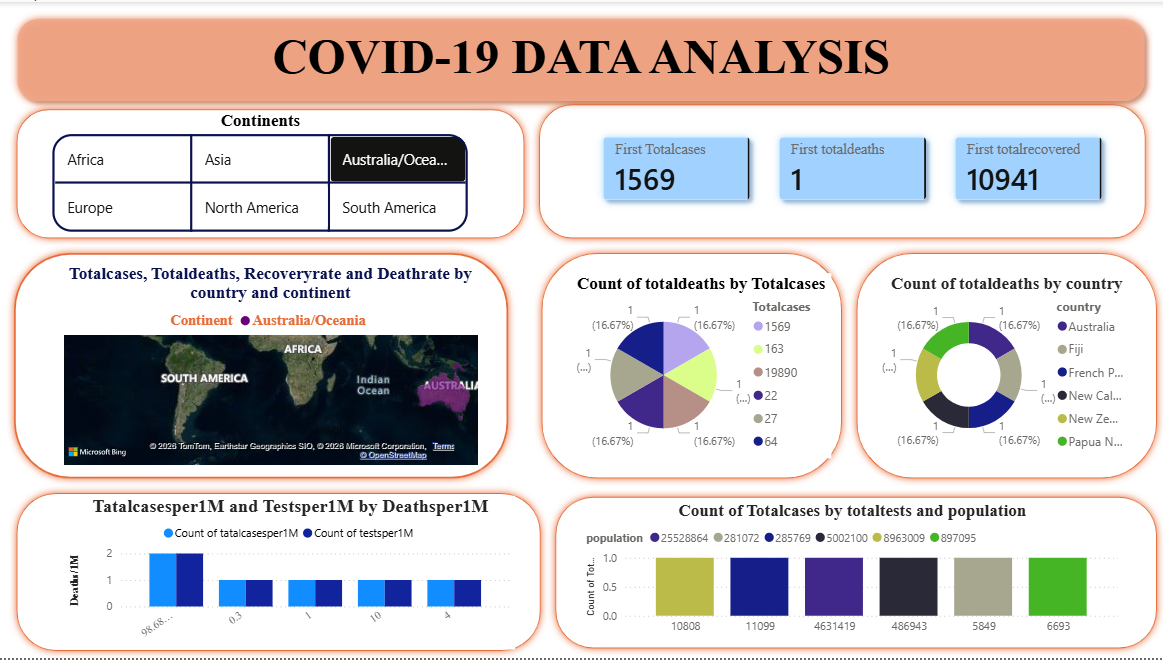

What the dashboard file says about the page in this screenshot:
{"tool":"powerbi","page":{"name":"Page 1","canvas":[1280,720],"ordinal":0},"visuals":[{"type":"shape","box":[603.8,535.2,676.5,182.5],"z":0},{"type":"shape","box":[12.3,531,591.4,189.4],"z":1000},{"type":"shape","box":[934.5,267.6,345.8,263.5],"z":2000},{"type":"shape","box":[9.6,267.6,558.5,263.5],"z":3000},{"type":"shape","box":[585.9,104.3,682,163.3],"z":4000},{"type":"shape","box":[12.3,109.8,573.6,157.8],"z":5000},{"type":"shape","box":[588.7,267.6,345.8,263.5],"z":6000},{"type":"donutChart","fields":{"Y":["CountNonNull(covidsql corona.totaldeaths)"],"Category":["covidsql corona.country"]},"box":[964.7,297.8,285.4,203.1],"z":7000},{"type":"shape","box":[12.3,9.6,1255.6,108.4],"z":8000},{"type":"textbox","box":[0,24.7,1280.3,93.3],"z":9000},{"type":"pieChart","fields":{"Y":["CountNonNull(covidsql corona.totaldeaths)"],"Category":["covidsql corona.Totalcases"]},"box":[628.5,297.8,286.8,203.1],"z":10000},{"type":"filledMap","title":"Totalcases, Totaldeaths, Recoveryrate and Deathrate by country and continent","fields":{"Category":["covidsql corona.country"],"Series":["covidsql corona.continent"]},"box":[67.2,286.8,463.8,226.4],"z":11000},{"type":"cardVisual","fields":{"Data":["Min(covidsql corona.totalcases)","Min(covidsql corona.totaldeaths)","Min(covidsql corona.totalrecovered)"]},"box":[635.3,119.4,606.5,127.6],"z":12000},{"type":"advancedSlicerVisual","title":"Continents","fields":{"Values":["covidsql corona.continent"]},"box":[54.9,119.4,466.6,138.6],"z":13000},{"type":"lineClusteredColumnComboChart","title":"Tatalcasesper1M and Testsper1M by Deathsper1M","fields":{"Category":["covidsql corona.deathsper1M"],"Y":["CountNonNull(covidsql corona.tatalcasesper1M)","CountNonNull(covidsql corona.testsper1M)"]},"box":[74.1,542,494,168.8],"z":14000},{"type":"columnChart","fields":{"Category":["covidsql corona.totaltests"],"Y":["CountNonNull(covidsql corona.Totalcases)"],"Series":["covidsql corona.population"]},"box":[640.8,547.5,594.2,156.4],"z":15000}]}

Visuals, with their boxes in screenshot pixels (x1, y1, x2, y2), scaled from the page's 1280x720 canvas onto the 1163x663 screenshot:
shape: {"left": 549, "top": 493, "right": 1162, "bottom": 661}
shape: {"left": 11, "top": 489, "right": 549, "bottom": 662}
shape: {"left": 849, "top": 246, "right": 1162, "bottom": 489}
shape: {"left": 9, "top": 246, "right": 516, "bottom": 489}
shape: {"left": 532, "top": 96, "right": 1152, "bottom": 246}
shape: {"left": 11, "top": 101, "right": 532, "bottom": 246}
shape: {"left": 535, "top": 246, "right": 849, "bottom": 489}
donutChart - CountNonNull(covidsql corona.totaldeaths) x covidsql corona.country: {"left": 877, "top": 274, "right": 1136, "bottom": 461}
shape: {"left": 11, "top": 9, "right": 1152, "bottom": 109}
textbox: {"left": 0, "top": 23, "right": 1162, "bottom": 109}
pieChart - CountNonNull(covidsql corona.totaldeaths) x covidsql corona.Totalcases: {"left": 571, "top": 274, "right": 832, "bottom": 461}
"Totalcases, Totaldeaths, Recoveryrate and Deathrate by country and continent" filledMap: {"left": 61, "top": 264, "right": 482, "bottom": 473}
cardVisual - Min(covidsql corona.totalcases) x Min(covidsql corona.totaldeaths): {"left": 577, "top": 110, "right": 1128, "bottom": 227}
"Continents" advancedSlicerVisual: {"left": 50, "top": 110, "right": 474, "bottom": 238}
"Tatalcasesper1M and Testsper1M by Deathsper1M" lineClusteredColumnComboChart: {"left": 67, "top": 499, "right": 516, "bottom": 655}
columnChart - covidsql corona.totaltests x CountNonNull(covidsql corona.Totalcases): {"left": 582, "top": 504, "right": 1122, "bottom": 648}
